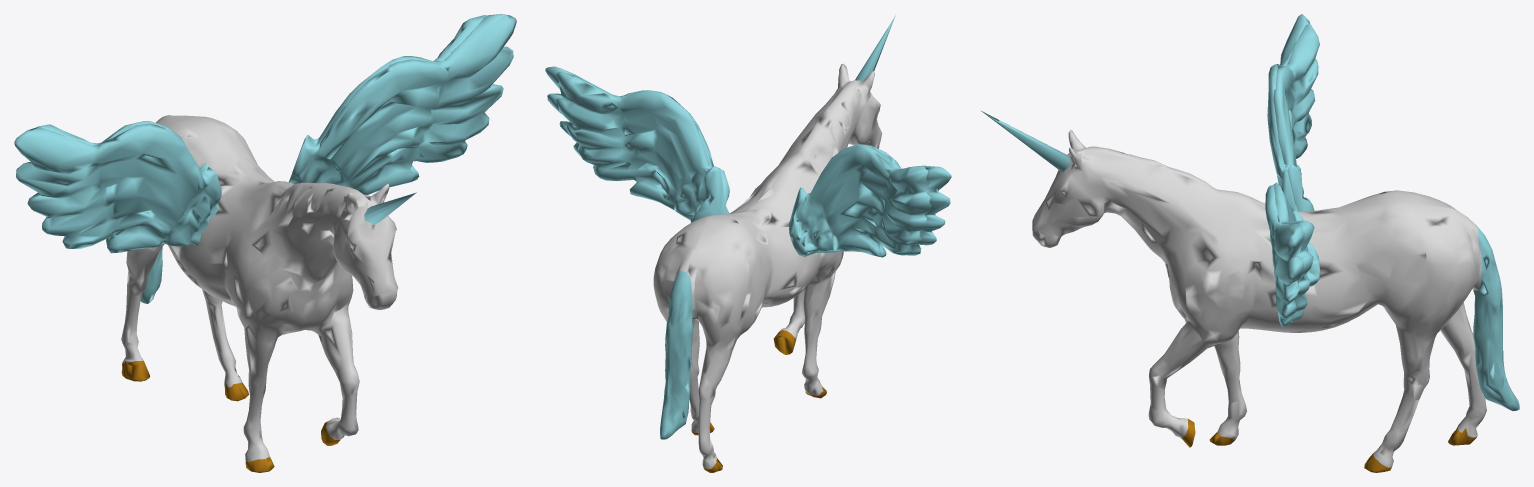
Rendered from unicorn_obj.obj.
3 renders of one model, left to right at view 1: azimuth 30°, elevation 25°; view 2: azimuth 150°, elevation 25°; view 3: azimuth 270°, elevation 25°, orthographic. The views are drawn at different scales.
Visible parts, largest first — view 1: 16268_American_Quarter_Horse_Walking_V1; view 2: 16268_American_Quarter_Horse_Walking_V1; view 3: 16268_American_Quarter_Horse_Walking_V1.
Part boxes in pixels (x1=…): 16268_American_Quarter_Horse_Walking_V1: x1=14, y1=14, x2=516, y2=472; 16268_American_Quarter_Horse_Walking_V1: x1=545, y1=15, x2=951, y2=472; 16268_American_Quarter_Horse_Walking_V1: x1=981, y1=14, x2=1519, y2=472.
Bounding box in the file's own units: 15.41 × 10.72 × 15.15.
